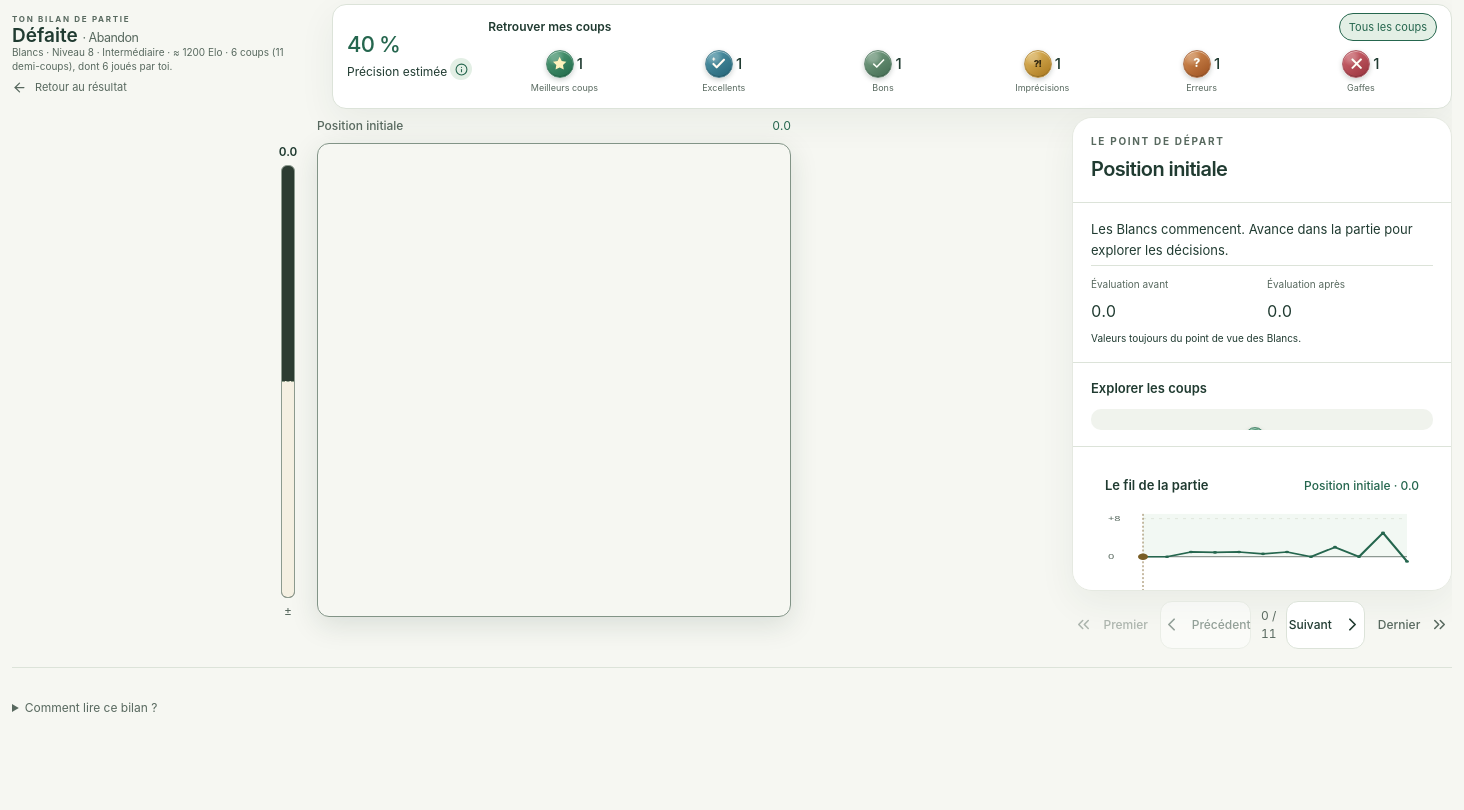
Test: Bilan : une seule vue, coup joué et meilleur coup ensemble › sépare l’essentiel du détail pour que le coup se comprenne au-dessus du plateau
Step 1. Click the button with aria-label "Gaffes, 1 coup" → (1361,72), box x1=1285 y1=45 x2=1437 y2=100
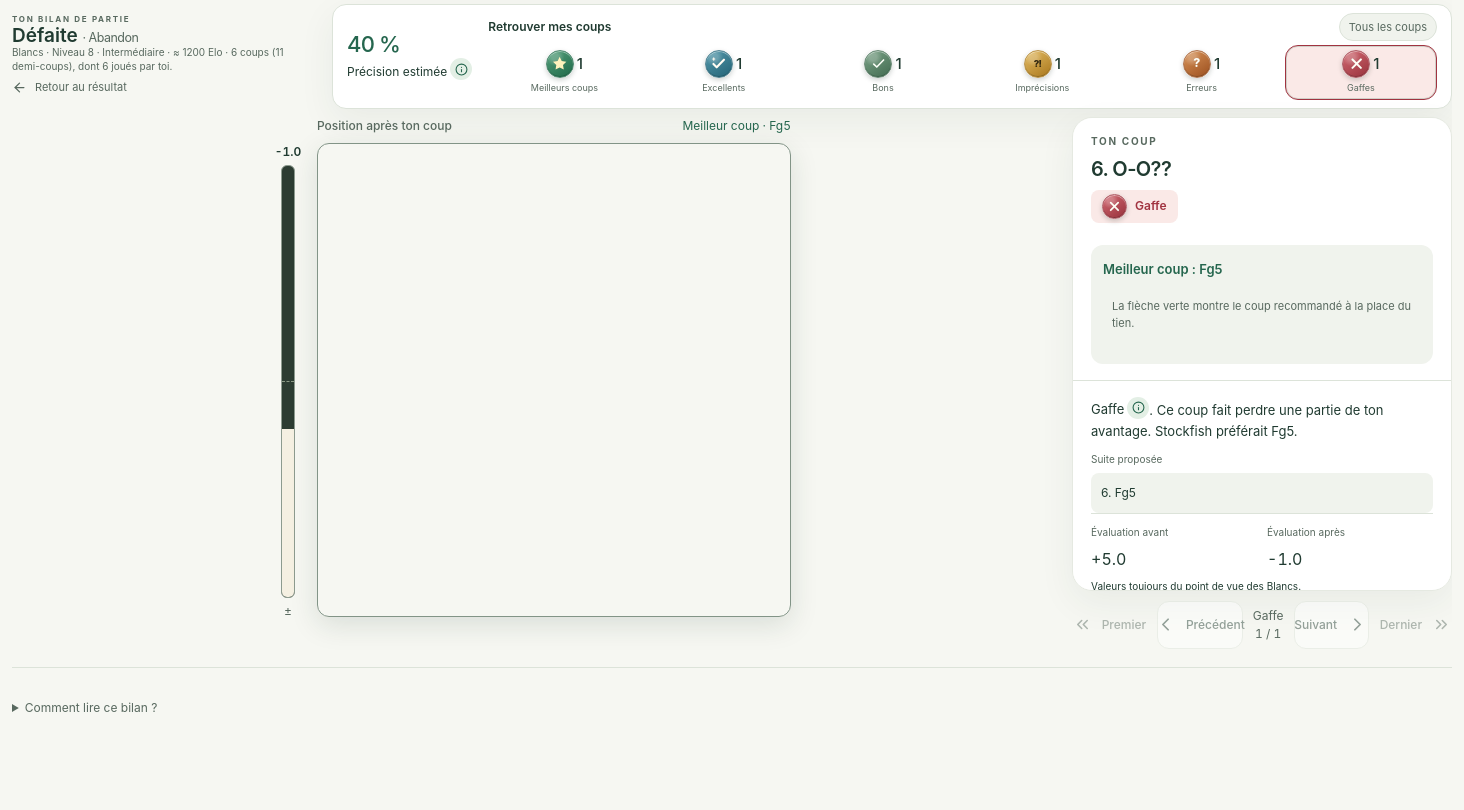
Expected: the element named "Commentaire et évaluations" shows "Évaluation avant", x1=1091 y1=526 x2=1168 y2=538
Result: the element named "Détail du coup sélectionné" shows "Gaffe" at x1=1135 y1=198 x2=1166 y2=213
Result: the element named "Détail du coup sélectionné" shows "Meilleur coup : Fg5" at x1=1073 y1=118 x2=1451 y2=380
